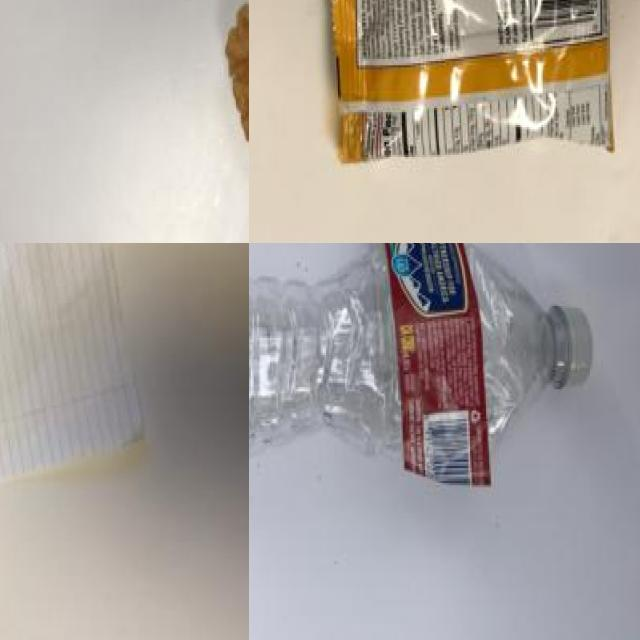compost: (206, 0, 249, 213)
paper: (0, 243, 142, 521)
plastic: (249, 243, 597, 497)
trash: (293, 0, 640, 174)
